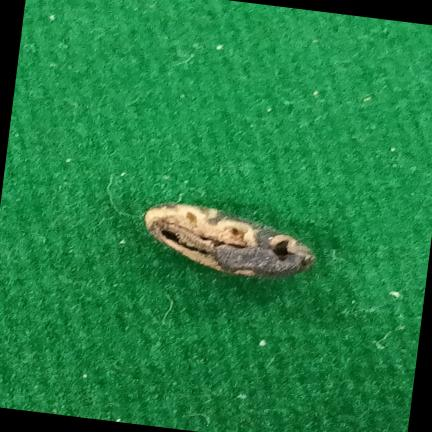partial-black: (143, 202, 314, 278)
